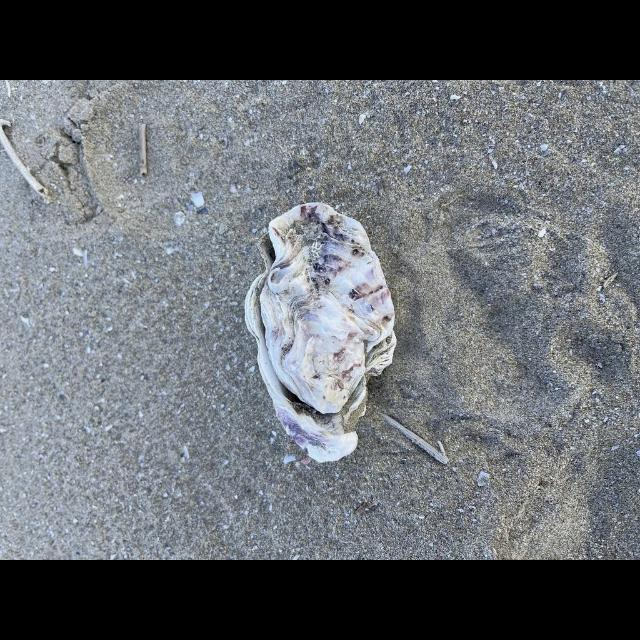Oyster-Open: (244, 201, 396, 463)
